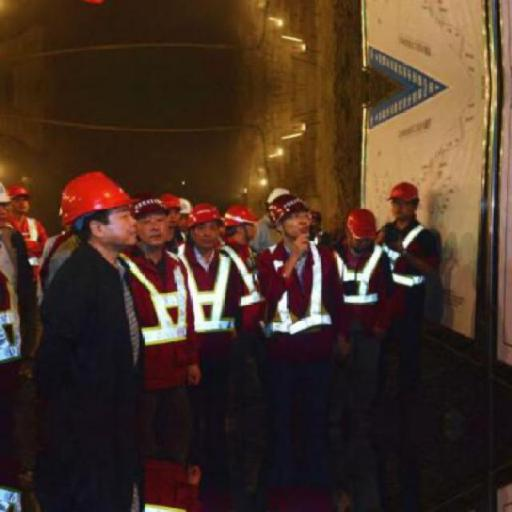helmet: (50, 166, 138, 232), (262, 182, 318, 226), (130, 188, 190, 226), (338, 203, 384, 245), (219, 199, 261, 235), (382, 176, 424, 210), (184, 201, 226, 231), (2, 178, 34, 210), (1, 174, 14, 210)
vest: (114, 250, 201, 396), (380, 220, 450, 322), (178, 244, 242, 350), (331, 242, 394, 334), (216, 242, 270, 334)
